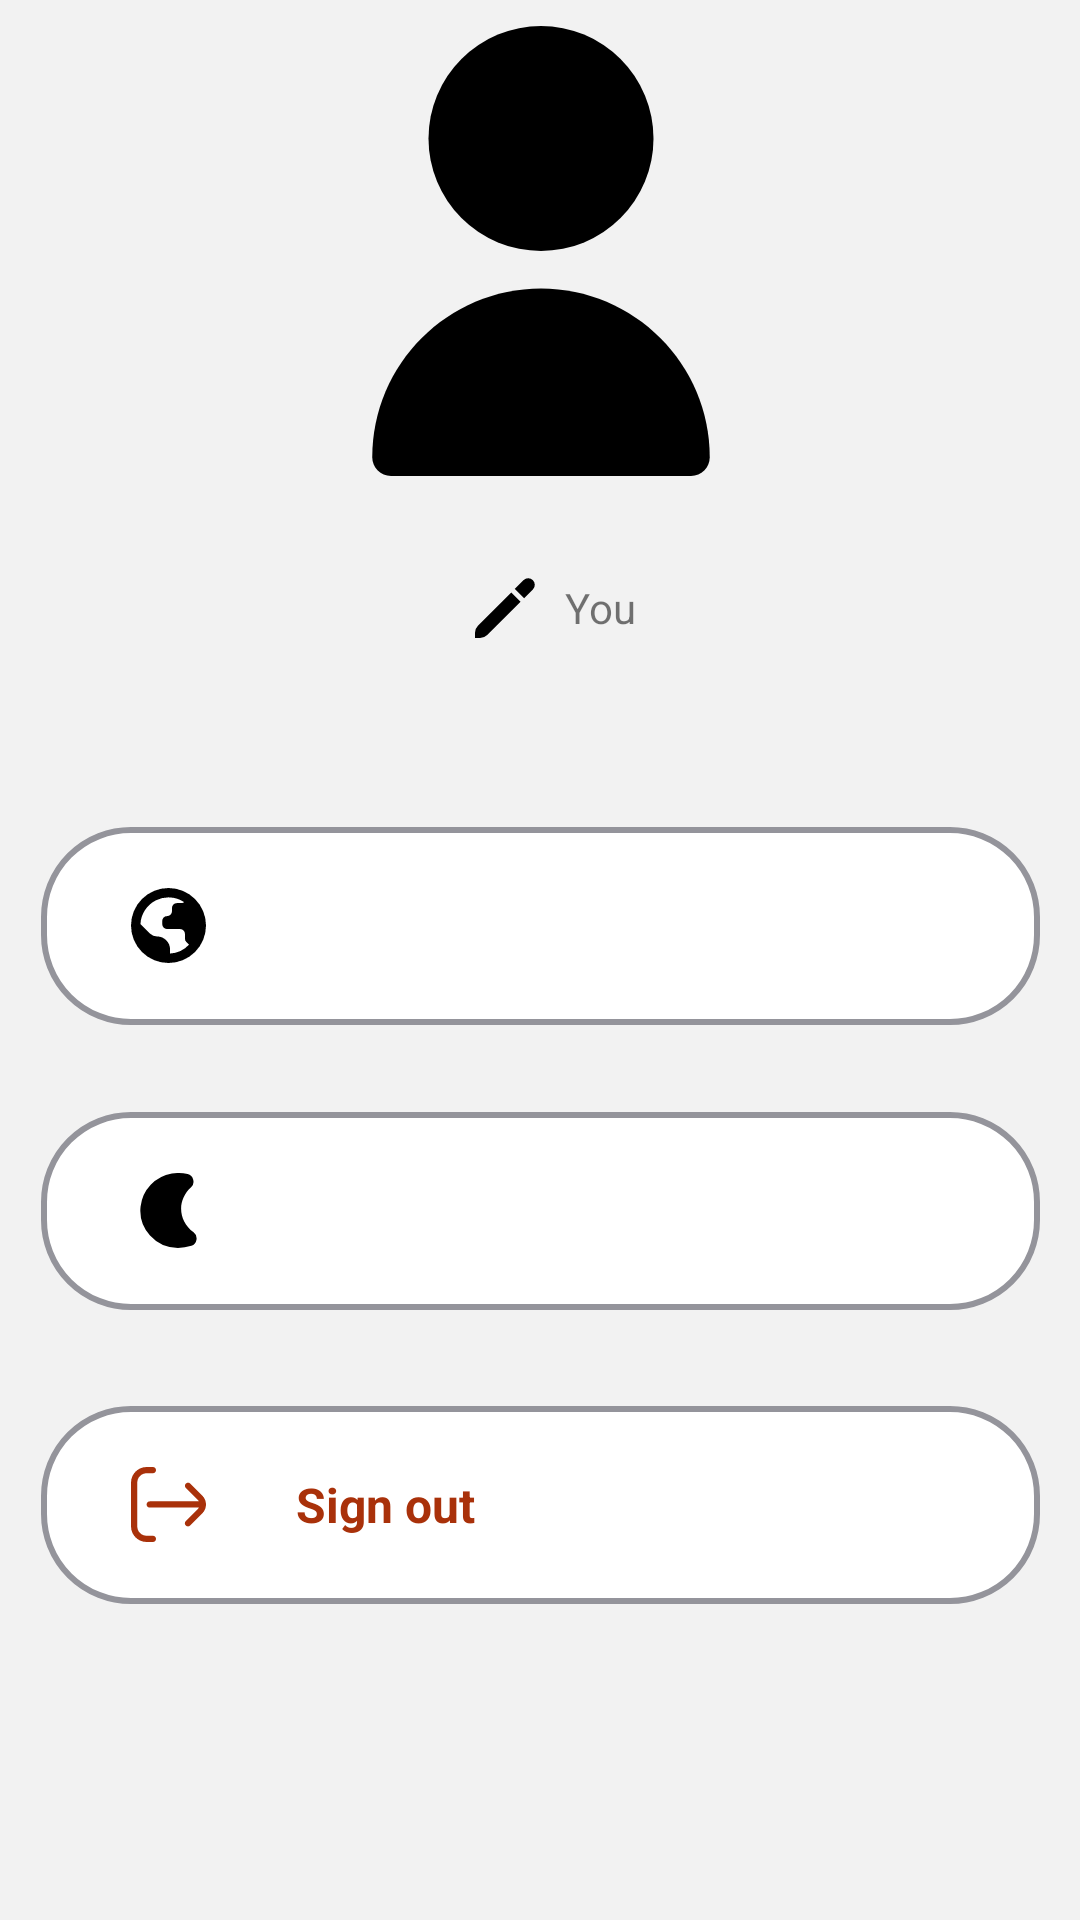

Where icons sit on this 1080*1920 app screen, as (x1, y1, x2, y2):
moon: (140, 1173, 197, 1248)
pencil: (475, 578, 535, 638)
world: (131, 888, 206, 963)
